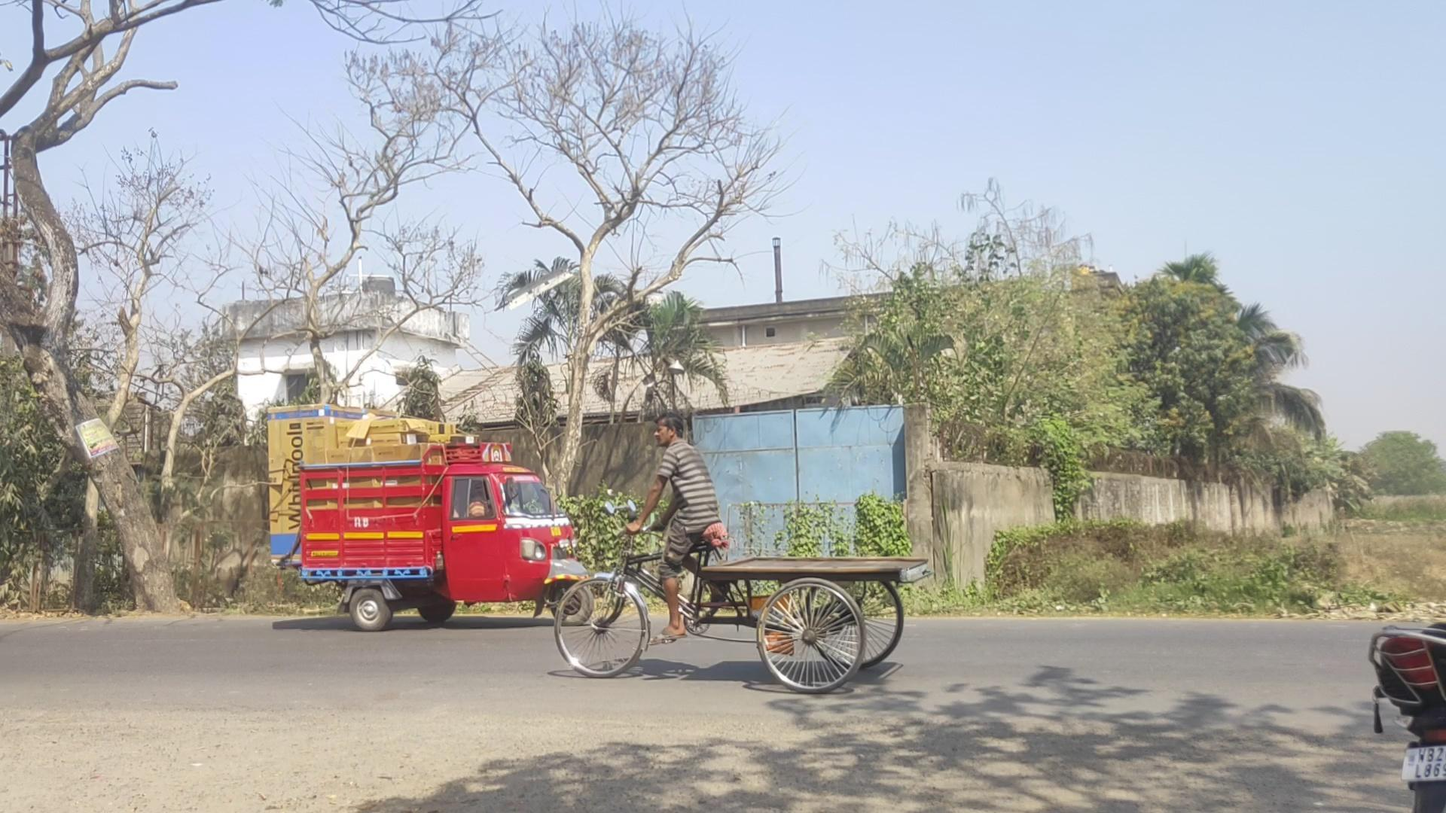Auto: (554, 413, 932, 695)
van: (267, 403, 591, 632)
